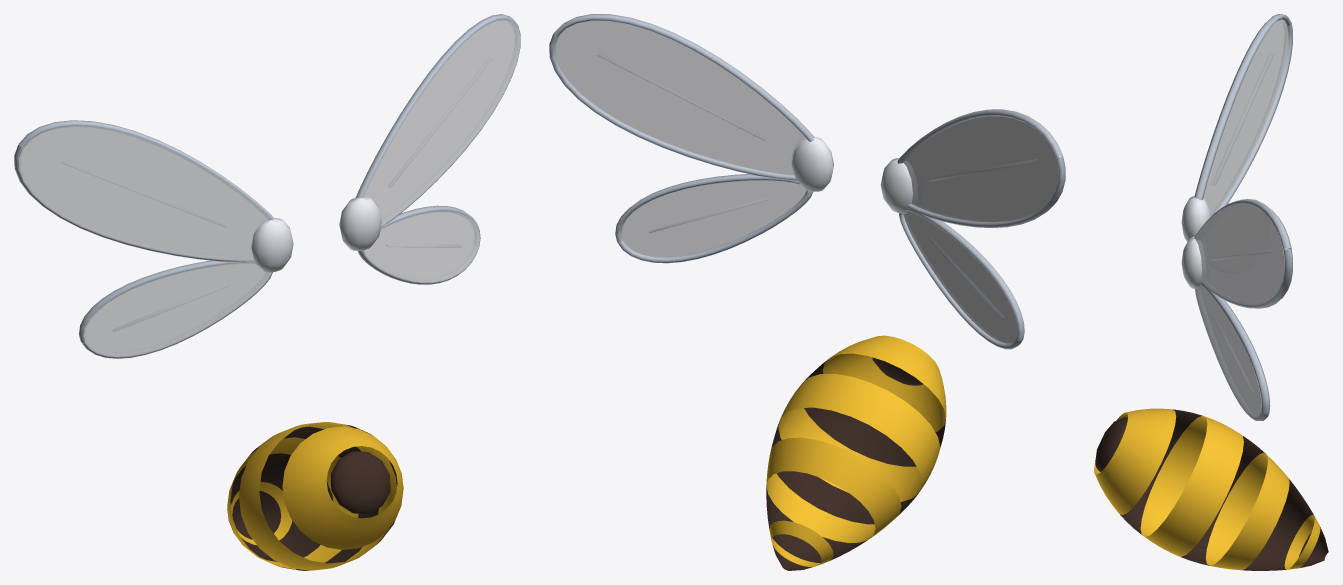
Rendered from back_bxbee.glb.
The picture shows the model from 3 angles, left to right: view 1: azimuth 30°, elevation 25°; view 2: azimuth 150°, elevation 25°; view 3: azimuth 270°, elevation 25°; orthographic projection. The views are drawn at different scales.
Parts seen in each view (by area): view 1: back_bee_wing, back_bee_tail, back_bee_rim; view 2: back_bee_wing, back_bee_tail, back_bee_rim; view 3: back_bee_tail, back_bee_wing, back_bee_rim.
Part boxes in pixels (x1,y1,x2,y2): back_bee_wing: [19, 18, 520, 356]; back_bee_tail: [227, 422, 403, 570]; back_bee_rim: [14, 14, 520, 358]; back_bee_wing: [555, 20, 1062, 343]; back_bee_tail: [766, 335, 946, 570]; back_bee_rim: [549, 14, 1065, 349]; back_bee_tail: [1094, 408, 1328, 570]; back_bee_wing: [1181, 19, 1288, 418]; back_bee_rim: [1194, 14, 1292, 421].
Bounding box in the file's own units: 3.42 × 3.11 × 1.47.
